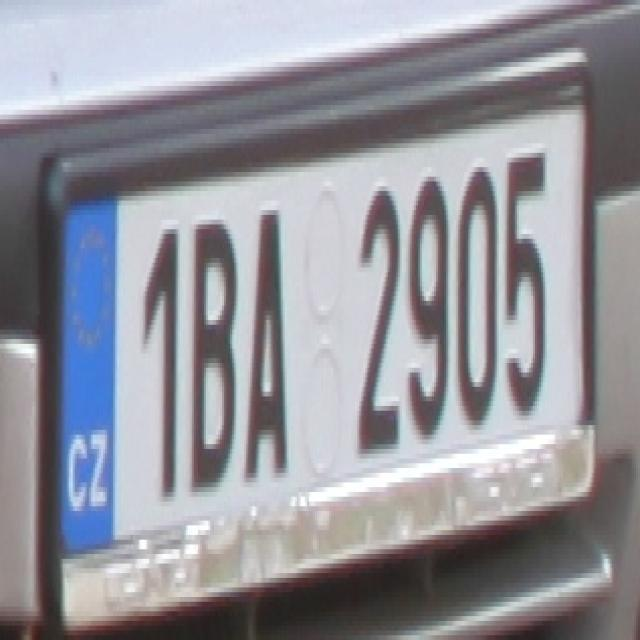0: (452, 158, 497, 434)
1: (137, 210, 178, 497)
2: (353, 182, 398, 454)
5: (502, 148, 550, 434)
9: (402, 168, 448, 440)
A: (242, 200, 291, 472)
B: (190, 220, 238, 482)
